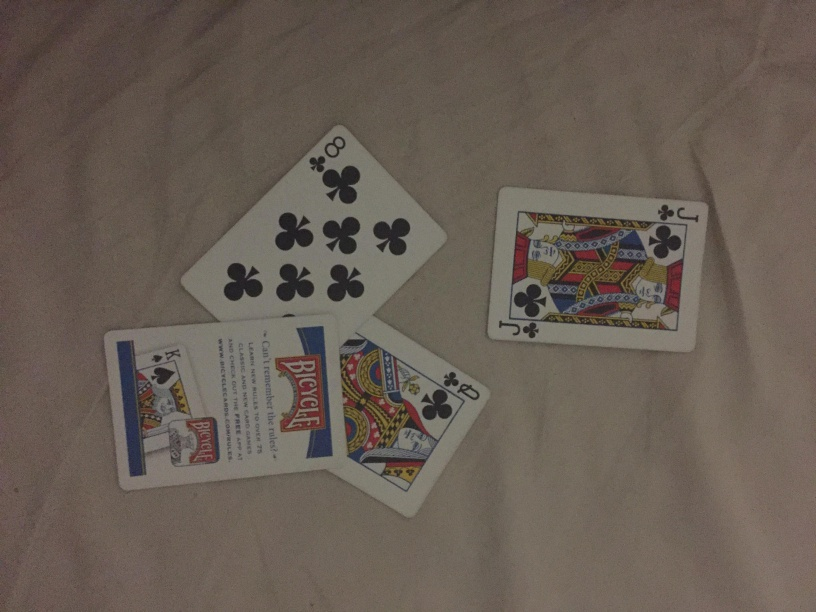8: (158, 114, 452, 377)
jack: (490, 178, 711, 355)
queen: (327, 312, 491, 517)
